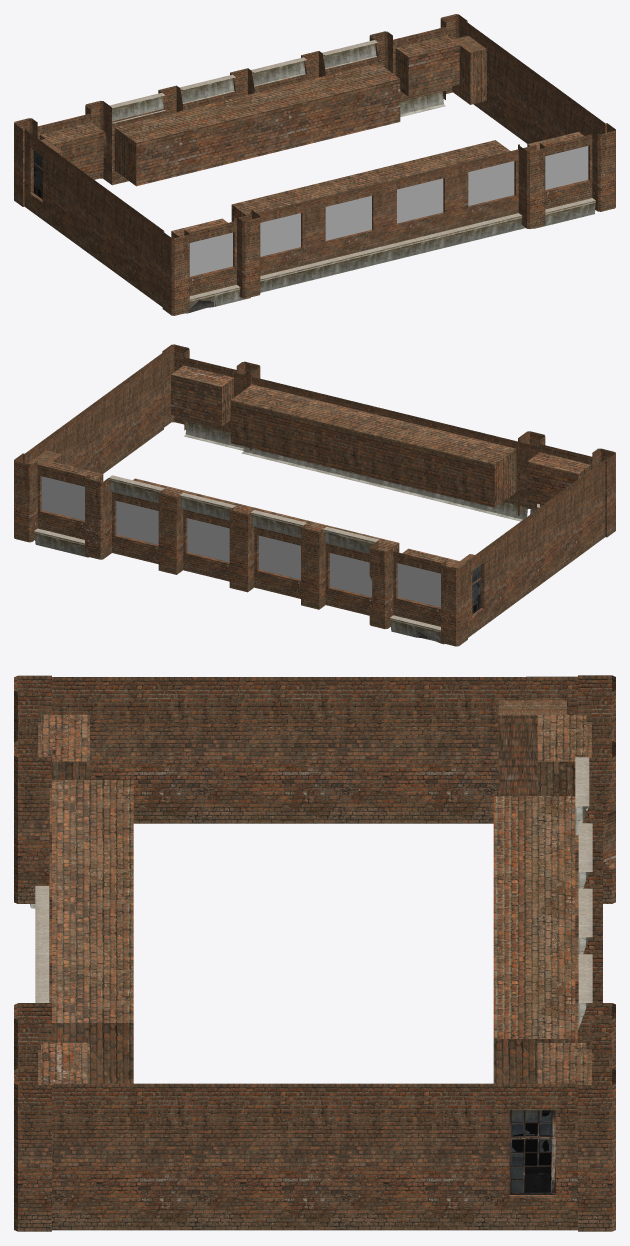
File: Build4_el3_LOD1.fbx
The picture shows the model from 3 angles, top to bottom: view 1: azimuth 30°, elevation 25°; view 2: azimuth 150°, elevation 25°; view 3: azimuth 270°, elevation 25°; orthographic projection. The views are drawn at different scales.
Parts seen in each view (by area): view 1: polySurface108; view 2: polySurface108; view 3: polySurface108.
Boxes of the visible parts, x1,y1,x2,y2 form: polySurface108: (14,14,615,315); polySurface108: (14,344,615,646); polySurface108: (14,675,615,1231).
Bounding box in the file's own units: 45.67 × 8.18 × 28.35.
